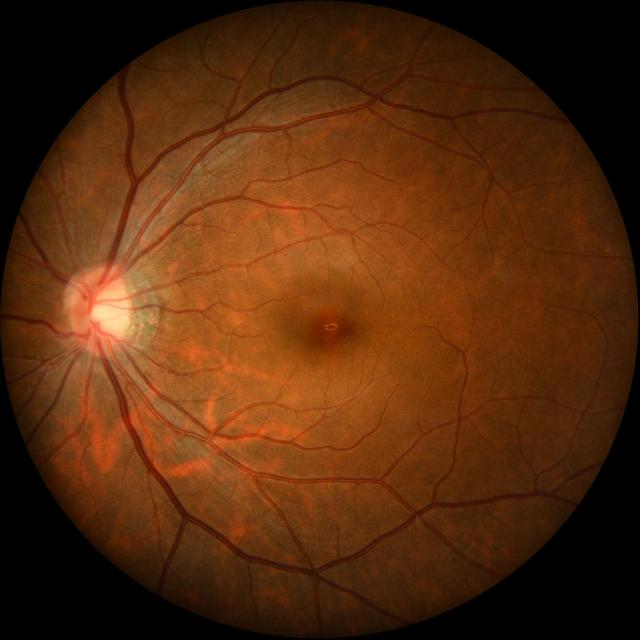OC: (90, 290, 122, 329)
OD: (68, 266, 132, 352)
